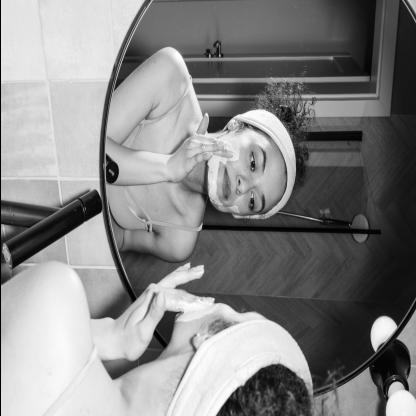Eye: (248, 150, 257, 172), (248, 191, 256, 211)
Mouth: (221, 166, 231, 200)
Nose: (235, 175, 253, 196)
